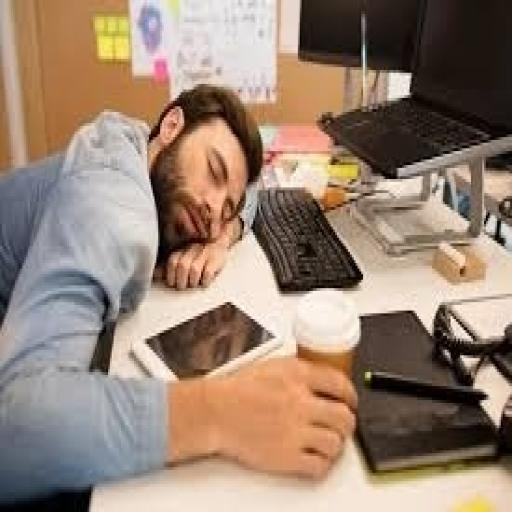sleeping: (0, 78, 361, 506)
